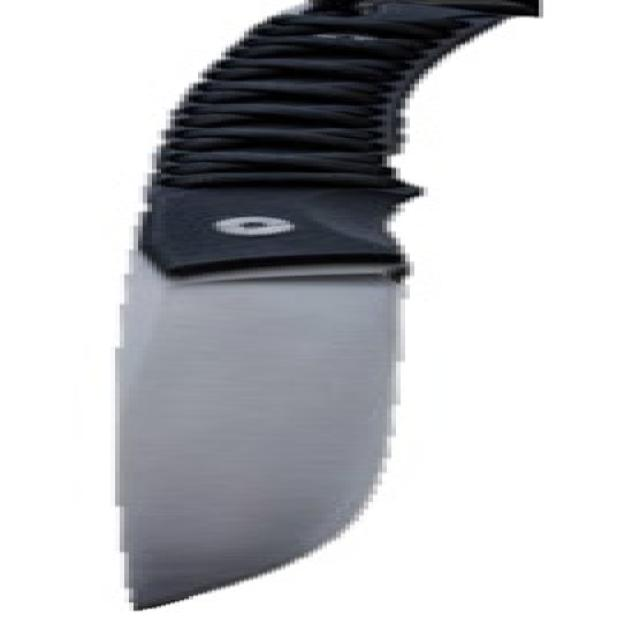knife: (97, 1, 562, 623)
